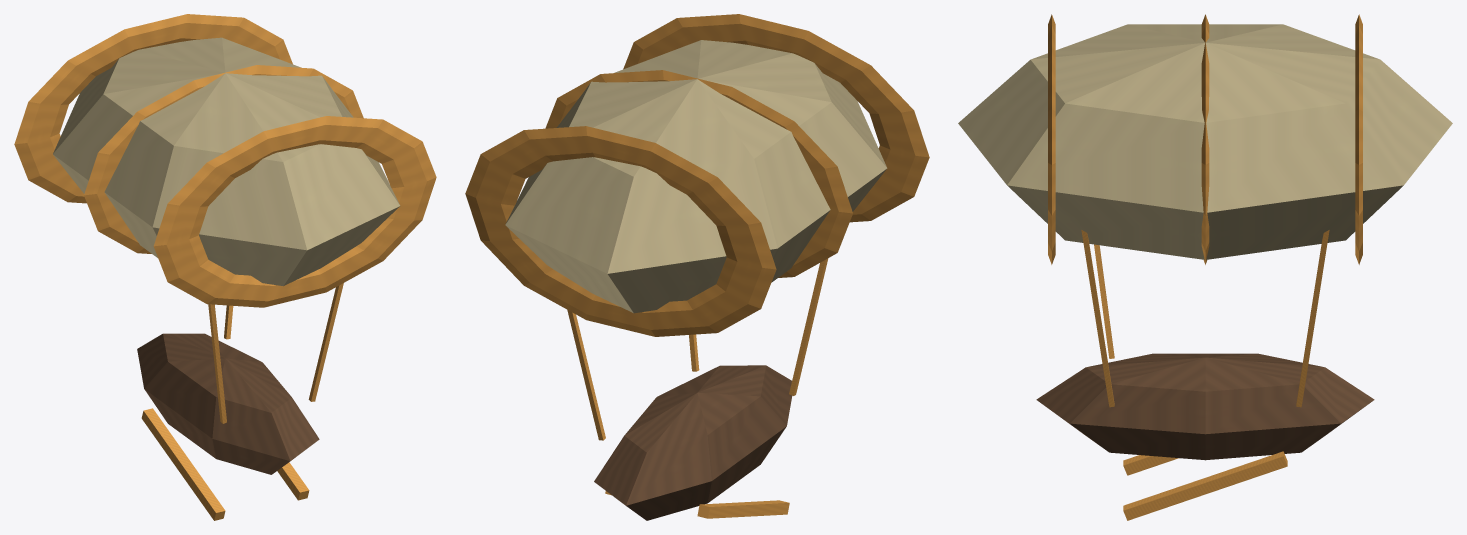
File: atlas100-s012-a01.lod1.glb
3 renders of one model, left to right at view 1: azimuth 30°, elevation 25°; view 2: azimuth 150°, elevation 25°; view 3: azimuth 270°, elevation 25°, orthographic. The views are drawn at different scales.
Visible parts, largest first — view 1: atlas100-s012-a01:part-003, atlas100-s012-a01:part-010, atlas100-s012-a01:part-000, atlas100-s012-a01:part-008, atlas100-s012-a01:part-009, atlas100-s012-a01:part-001, atlas100-s012-a01:part-007, atlas100-s012-a01:part-005, atlas100-s012-a01:part-002; view 2: atlas100-s012-a01:part-003, atlas100-s012-a01:part-008, atlas100-s012-a01:part-000, atlas100-s012-a01:part-010, atlas100-s012-a01:part-009, atlas100-s012-a01:part-001, atlas100-s012-a01:part-005, atlas100-s012-a01:part-006; view 3: atlas100-s012-a01:part-003, atlas100-s012-a01:part-000, atlas100-s012-a01:part-002, atlas100-s012-a01:part-008, atlas100-s012-a01:part-010, atlas100-s012-a01:part-009, atlas100-s012-a01:part-006, atlas100-s012-a01:part-007, atlas100-s012-a01:part-005, atlas100-s012-a01:part-001.
Part boxes in pixels (x1=…): atlas100-s012-a01:part-003: x1=53, y1=37, x2=400, y2=286; atlas100-s012-a01:part-010: x1=153, y1=116, x2=436, y2=307; atlas100-s012-a01:part-000: x1=137, y1=333, x2=319, y2=474; atlas100-s012-a01:part-008: x1=14, y1=14, x2=292, y2=203; atlas100-s012-a01:part-009: x1=84, y1=65, x2=363, y2=253; atlas100-s012-a01:part-001: x1=141, y1=408, x2=225, y2=520; atlas100-s012-a01:part-007: x1=308, y1=283, x2=343, y2=401; atlas100-s012-a01:part-005: x1=208, y1=304, x2=226, y2=423; atlas100-s012-a01:part-002: x1=277, y1=462, x2=309, y2=500; atlas100-s012-a01:part-003: x1=505, y1=40, x2=887, y2=313; atlas100-s012-a01:part-008: x1=465, y1=126, x2=776, y2=336; atlas100-s012-a01:part-000: x1=594, y1=365, x2=792, y2=520; atlas100-s012-a01:part-010: x1=623, y1=14, x2=929, y2=222; atlas100-s012-a01:part-009: x1=545, y1=70, x2=852, y2=277; atlas100-s012-a01:part-001: x1=697, y1=500, x2=789, y2=518; atlas100-s012-a01:part-005: x1=789, y1=258, x2=828, y2=395; atlas100-s012-a01:part-006: x1=567, y1=310, x2=605, y2=440; atlas100-s012-a01:part-003: x1=958, y1=24, x2=1452, y2=259; atlas100-s012-a01:part-000: x1=1036, y1=353, x2=1374, y2=460; atlas100-s012-a01:part-002: x1=1123, y1=451, x2=1287, y2=520; atlas100-s012-a01:part-008: x1=1355, y1=14, x2=1362, y2=264; atlas100-s012-a01:part-010: x1=1048, y1=14, x2=1055, y2=264; atlas100-s012-a01:part-009: x1=1201, y1=14, x2=1209, y2=264; atlas100-s012-a01:part-006: x1=1296, y1=230, x2=1329, y2=407; atlas100-s012-a01:part-007: x1=1081, y1=230, x2=1114, y2=407; atlas100-s012-a01:part-005: x1=1094, y1=244, x2=1114, y2=358; atlas100-s012-a01:part-001: x1=1123, y1=455, x2=1178, y2=475.
Size of the model in its own units: 2.7 by 3.75 by 3.7.
3 materials, 3 textured.
